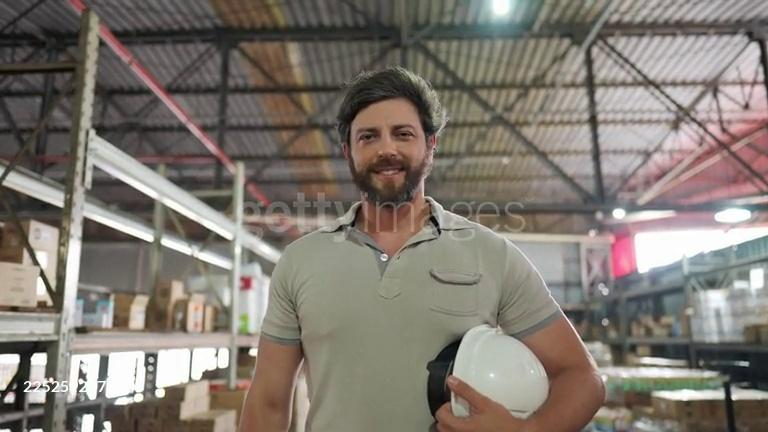helmet: (451, 325, 550, 432)
person: (231, 61, 608, 432)
